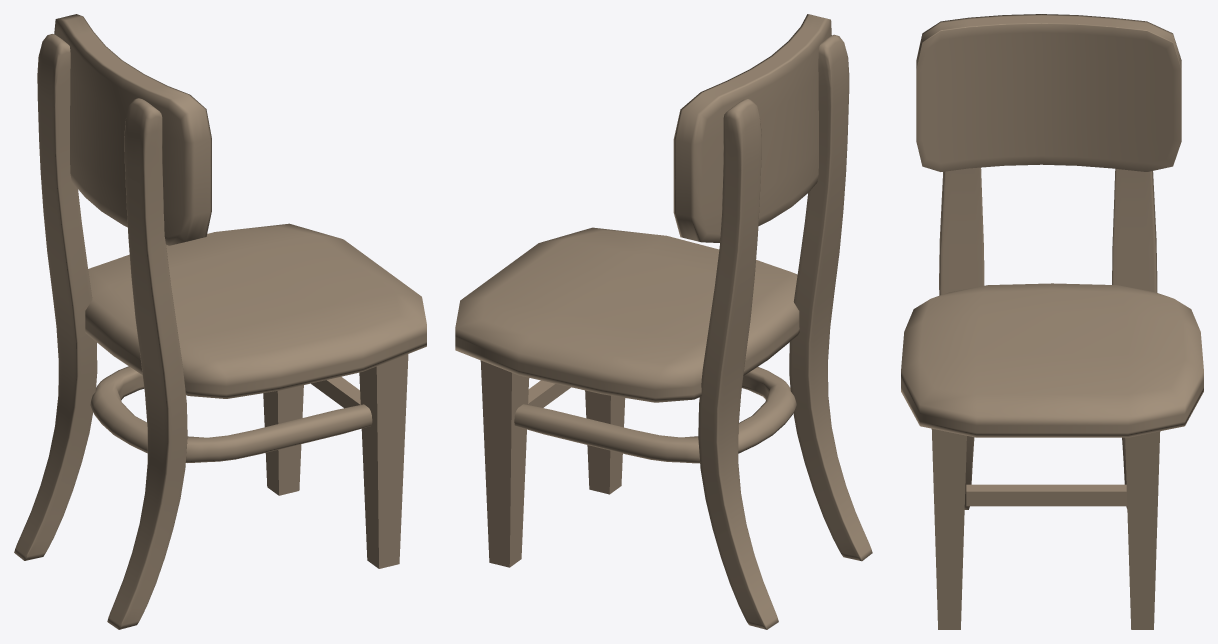
Rendered from Desk_Chair.fbx.
3 views of the same model, side by side, from view 1: azimuth 30°, elevation 25°; view 2: azimuth 150°, elevation 25°; view 3: azimuth 270°, elevation 25° (orthographic). The views are drawn at different scales.
Parts seen in each view (by area): view 1: chair_support1, desk_chair; view 2: desk_chair, chair_support1; view 3: desk_chair, chair_support1.
Part boxes in pixels (x1,y1,x2,y2): chair_support1: [14, 34, 408, 629]; desk_chair: [54, 14, 426, 398]; desk_chair: [455, 14, 831, 402]; chair_support1: [480, 34, 872, 629]; desk_chair: [901, 14, 1203, 437]; chair_support1: [931, 167, 1160, 629].
Bounding box in the file's own units: 0.9313 × 1.45 × 0.793.
